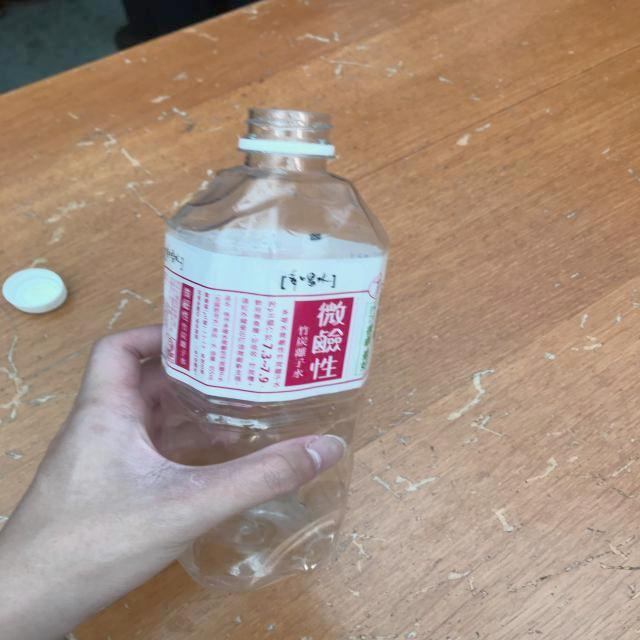bottle: (160, 108, 391, 593)
